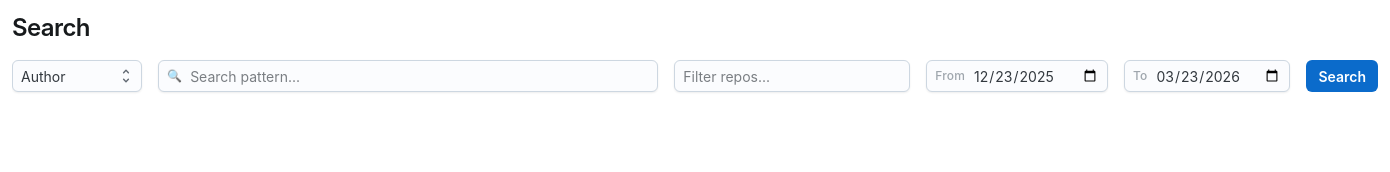
Test: SearchPage › shows "No results found" when search completes with no results
Type "nonexistent" into the field with placeholder "Search pattern..." at [420, 76], box [190,61,649,91]
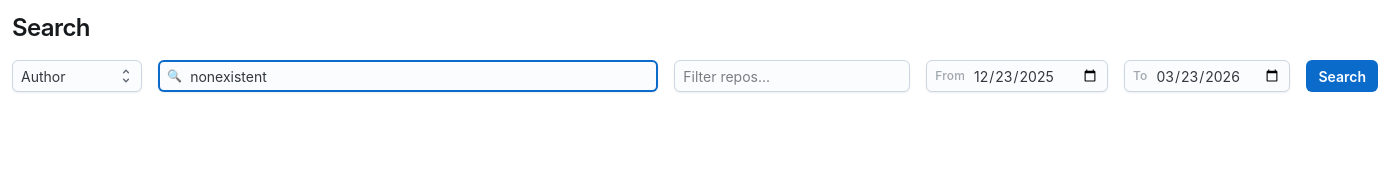
Capture the socket event handlers
Click the button "Search" at [1342, 76], box [1306,60,1378,92]
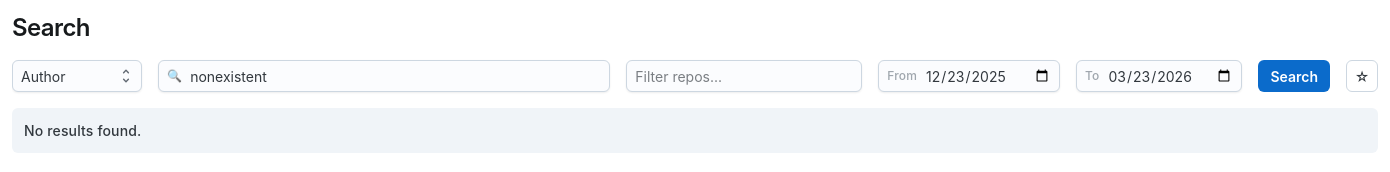
Now the text "No results found." is shown, box [12,108,1378,153]
